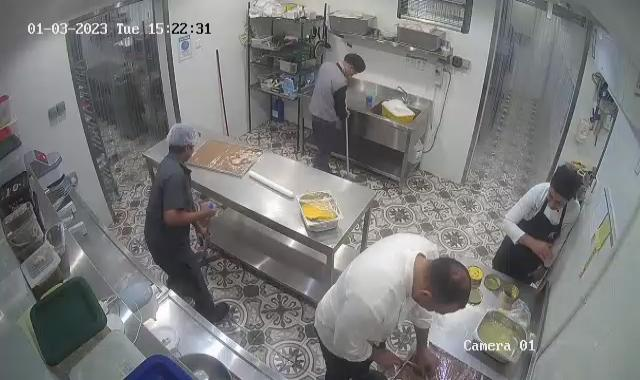hairnet: (164, 123, 201, 151)
no_hairnet: (423, 253, 470, 316), (548, 164, 585, 208), (339, 50, 366, 76)
